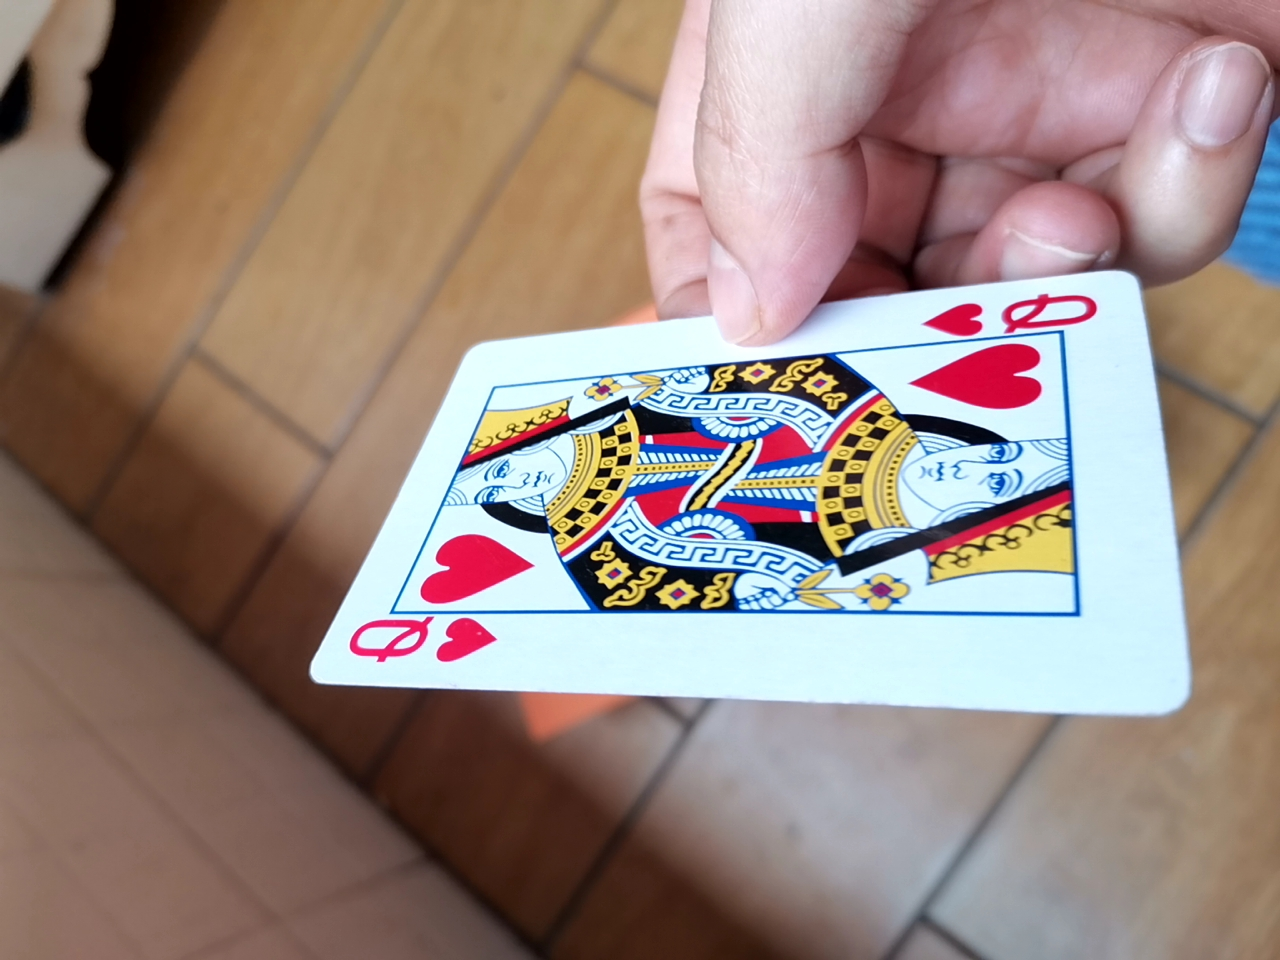hx q: (286, 272, 1189, 707)
